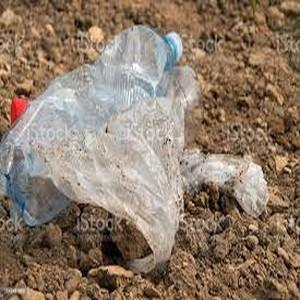Plastic: (5, 24, 183, 221)
